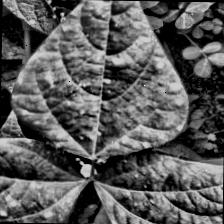Bean Rust: (11, 0, 189, 163), (99, 158, 223, 224), (0, 137, 89, 224), (1, 0, 86, 33)
